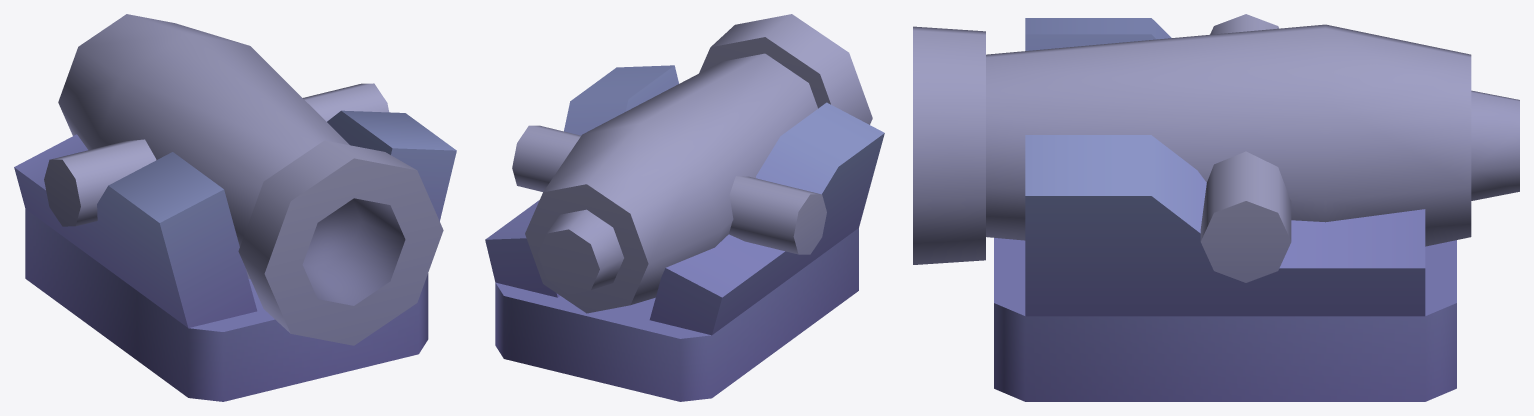
File: cannon.fbx
3 renders of one model, left to right at view 1: azimuth 30°, elevation 25°; view 2: azimuth 150°, elevation 25°; view 3: azimuth 270°, elevation 25°, orthographic. The views are drawn at different scales.
Parts seen in each view (by area): view 1: cannon, Group, Group_1; view 2: cannon, Group, Group_1; view 3: cannon, Group_1, Group.
Boxes of the visible parts, x1,y1,x2,y2 form: cannon: (25,14,443,401); Group: (14,134,257,327); Group_1: (327,110,456,221); cannon: (495,14,872,401); Group: (649,102,884,335); Group_1: (485,65,678,297); cannon: (913,14,1519,401); Group_1: (1025,135,1425,316); Group: (1025,18,1171,50).
Bounding box in the file's own units: 140 × 105 × 192.
